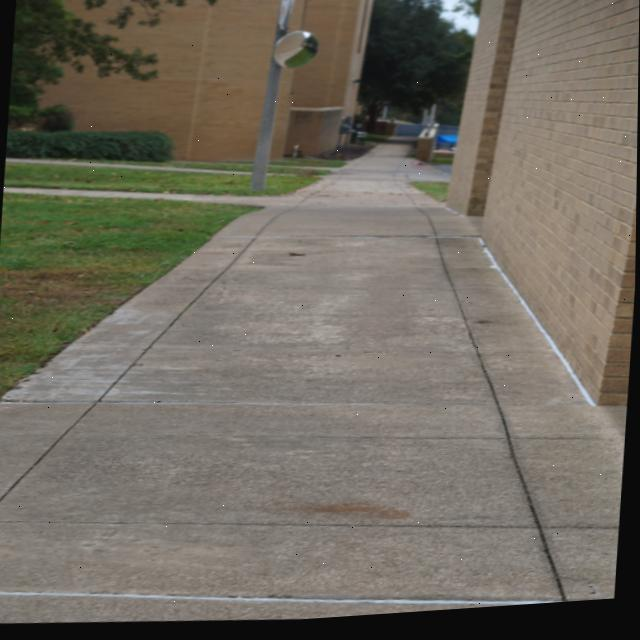Sidewalk: (0, 149, 628, 624), (6, 159, 234, 177)
